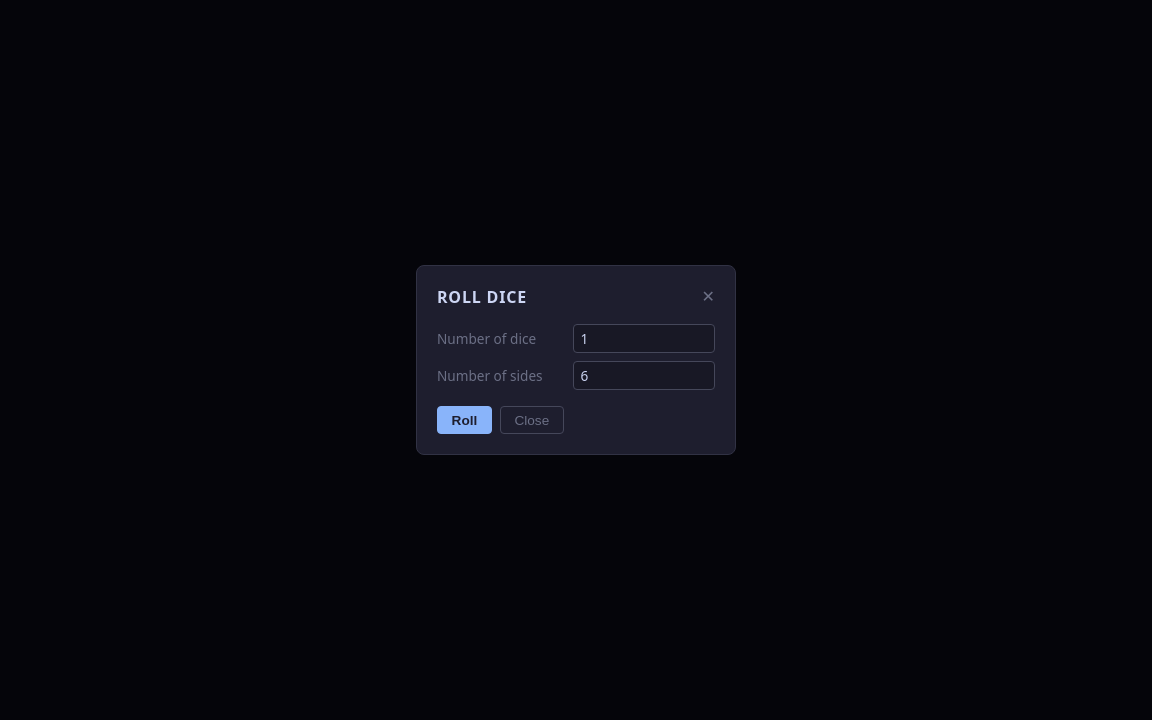
Test: DiceModal › disables Roll when dice or sides drop below 1
Clear the number field next to "Number of dice": (644, 338) x1=573 y1=324 x2=715 y2=353
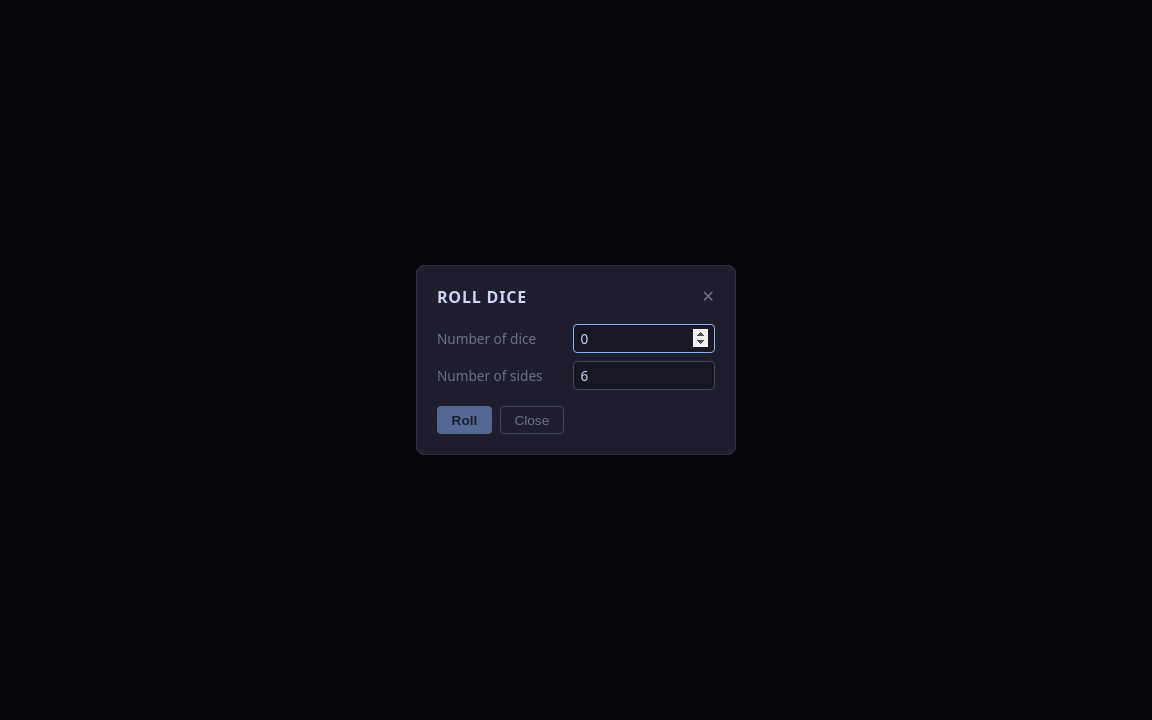
Expected: the button "Roll" is disabled, x1=437 y1=406 x2=492 y2=434
